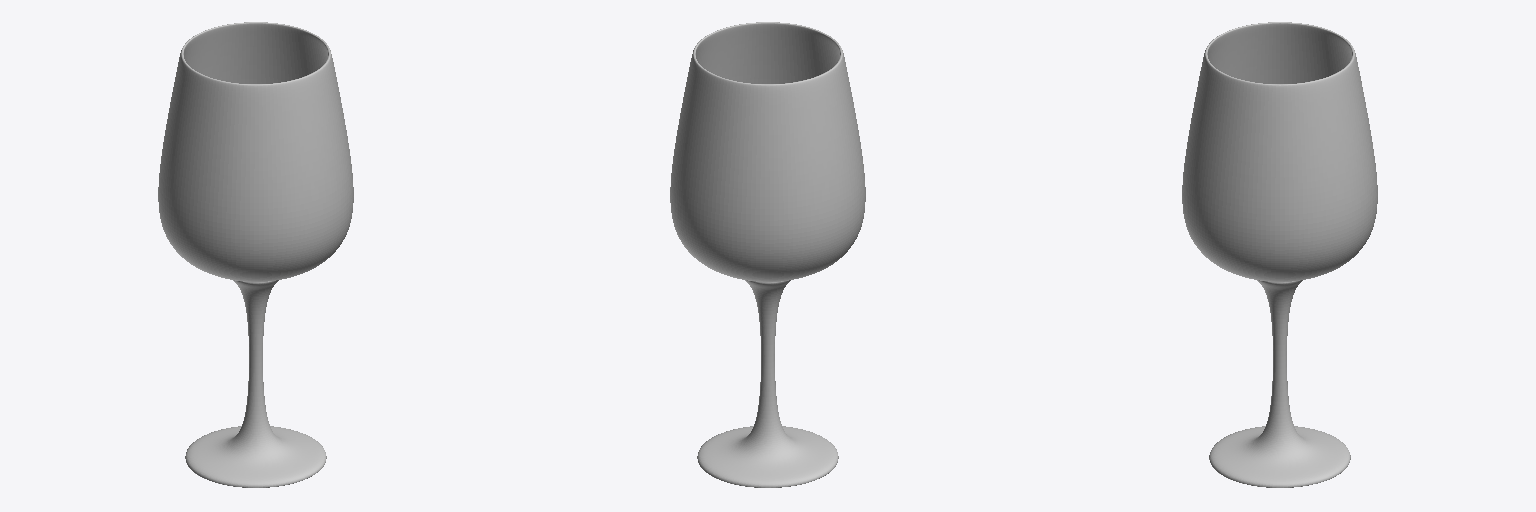
File: coublet.obj
3 renders of one model, left to right at view 1: azimuth 30°, elevation 25°; view 2: azimuth 150°, elevation 25°; view 3: azimuth 270°, elevation 25°, orthographic.
Visible parts, largest first — view 1: goublet_Circle; view 2: goublet_Circle; view 3: goublet_Circle.
Boxes of the visible parts, x1=… form: goublet_Circle: x1=158, y1=22, x2=353, y2=487; goublet_Circle: x1=670, y1=22, x2=865, y2=487; goublet_Circle: x1=1182, y1=22, x2=1377, y2=487.
Size of the model in its own units: 3.51 by 8.03 by 3.51.